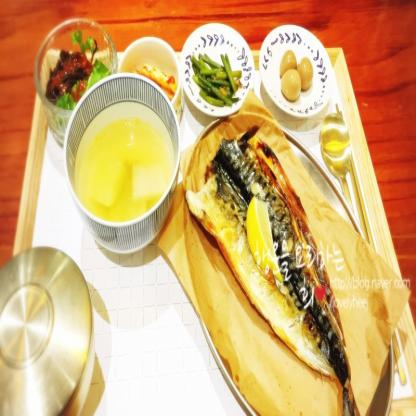Peixe: (173, 126, 378, 409)
